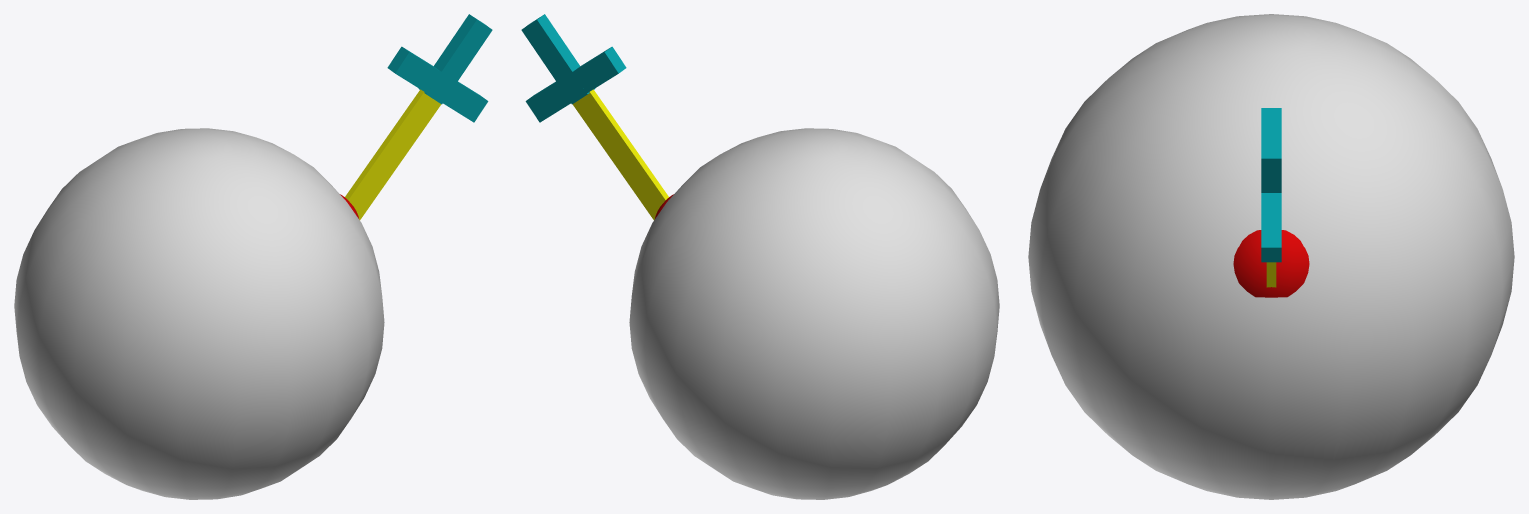
File: egg.fbx
3 renders of one model, left to right at view 1: azimuth 30°, elevation 25°; view 2: azimuth 150°, elevation 25°; view 3: azimuth 270°, elevation 25°, orthographic. The views are drawn at different scales.
Parts seen in each view (by area): view 1: pCube4; view 2: pCube4; view 3: pCube4.
Boxes of the visible parts, x1,y1,x2,y2 form: pCube4: (14,14,492,499); pCube4: (521,14,999,499); pCube4: (1028,14,1514,499).
Size of the model in its own units: 14.3 by 12.11 by 10.23.
